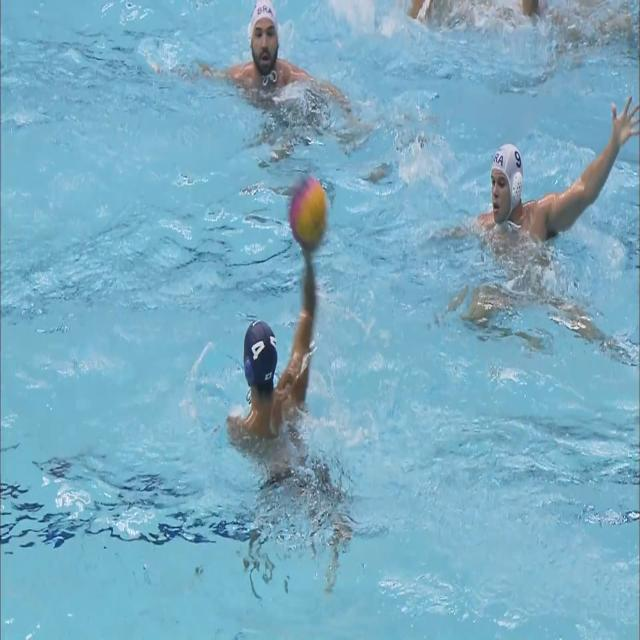ball: (289, 180, 327, 250)
